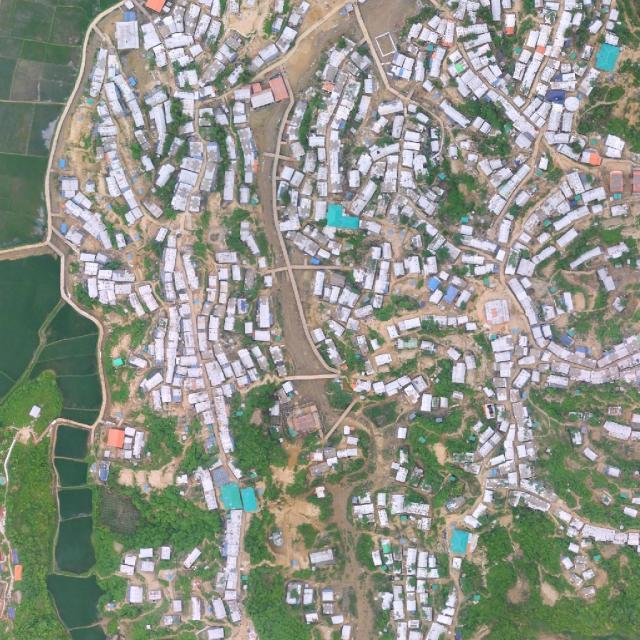agricultural_land: (0, 255, 102, 423), (58, 427, 91, 461)
building: (413, 0, 627, 214), (306, 39, 442, 319), (345, 281, 505, 448), (477, 240, 583, 464), (504, 443, 640, 604), (194, 248, 289, 453), (76, 42, 165, 231), (192, 457, 275, 601), (491, 182, 592, 289), (62, 240, 167, 335), (464, 325, 551, 439), (270, 132, 340, 266), (144, 226, 202, 383), (66, 246, 167, 329), (348, 444, 434, 535), (274, 570, 367, 640), (392, 547, 459, 639), (189, 264, 233, 358), (61, 182, 113, 251), (68, 192, 118, 255), (98, 426, 150, 482), (327, 308, 379, 363), (155, 225, 181, 291), (387, 47, 428, 83), (117, 466, 174, 489), (457, 501, 493, 535), (283, 98, 309, 143), (471, 427, 502, 460), (364, 400, 400, 428), (459, 255, 496, 282), (533, 579, 565, 609), (439, 491, 470, 518), (307, 547, 337, 571), (483, 299, 509, 325), (484, 300, 510, 325), (451, 454, 481, 475), (124, 187, 141, 224), (556, 226, 580, 251), (493, 213, 513, 243), (483, 242, 507, 262), (309, 327, 327, 346), (462, 235, 480, 246), (321, 625, 334, 640), (273, 16, 284, 32)
dryland: (358, 0, 416, 39)
greenland: (174, 368, 447, 614), (88, 314, 189, 477), (529, 382, 640, 528), (459, 506, 577, 640), (233, 557, 315, 640), (395, 441, 482, 517), (356, 534, 375, 569)
unmetalled_road: (9, 3, 118, 430), (227, 132, 341, 390), (223, 0, 337, 239), (339, 3, 413, 111), (323, 398, 358, 441)
